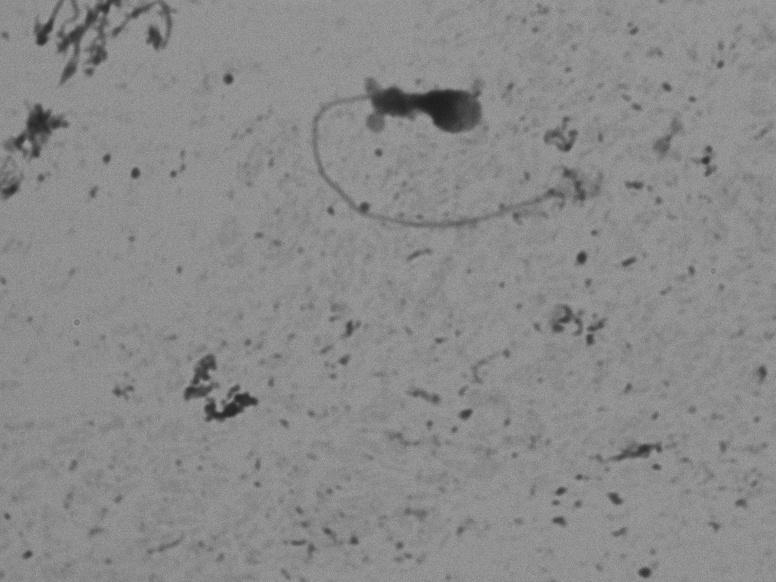Abnormal: (282, 58, 618, 256)
